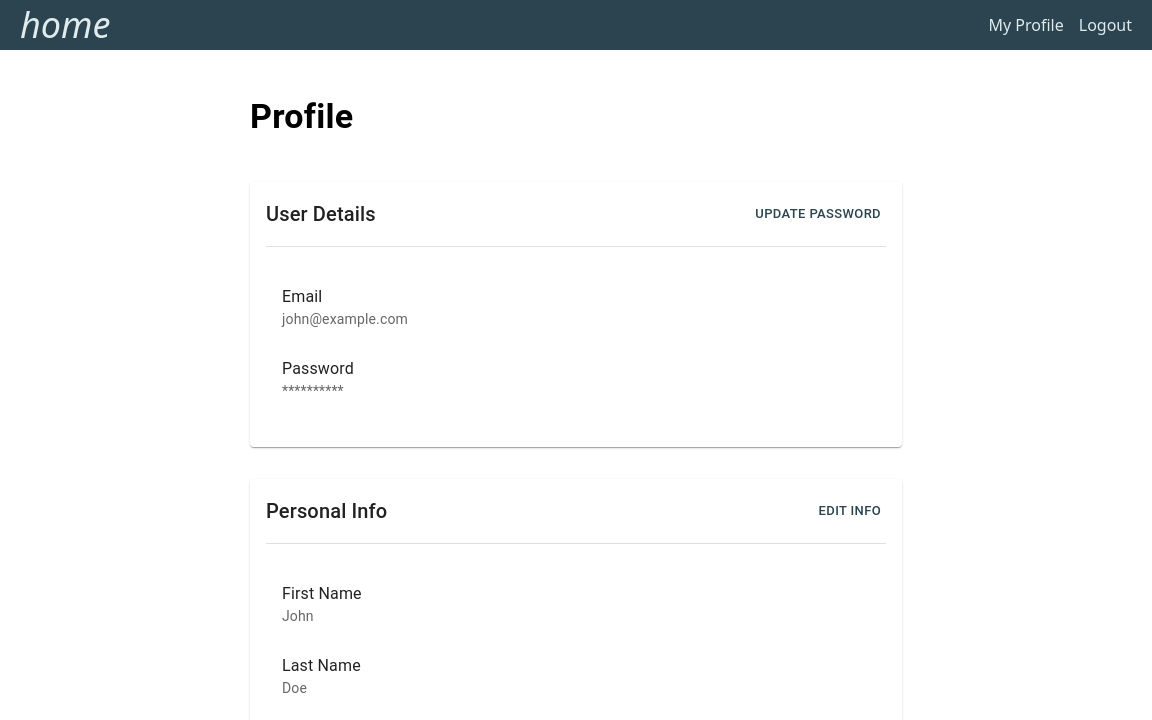
Scenario: Listener Profile Page › opens personal info dialog when clicking Edit Info
Check: the text "john@example.com" is shown, box [282,311,408,327]
Open personal info edit
Step 1. Click the button "Edit Info" → [850, 511], box [814,495,886,527]
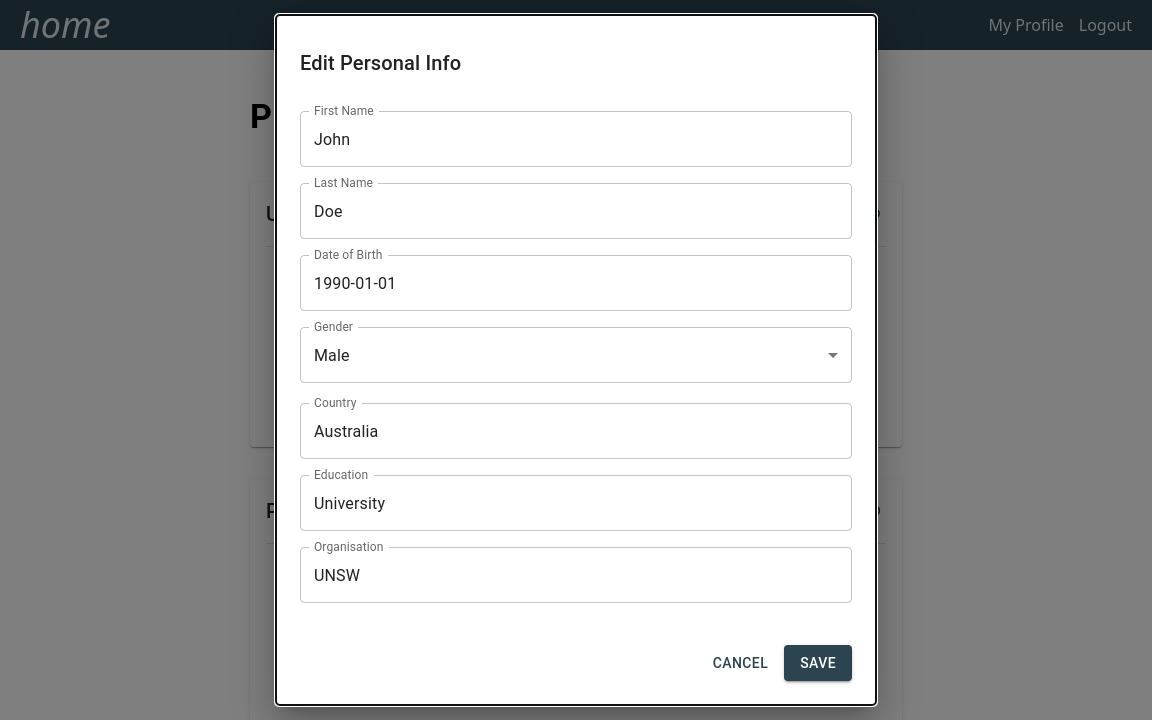
Check: the field labelled "First Name" is shown, box [300,111,852,167]
Check: the field labelled "Last Name" is shown, box [300,183,852,239]
Check: the field labelled "Date of Birth" is shown, box [300,255,852,311]
